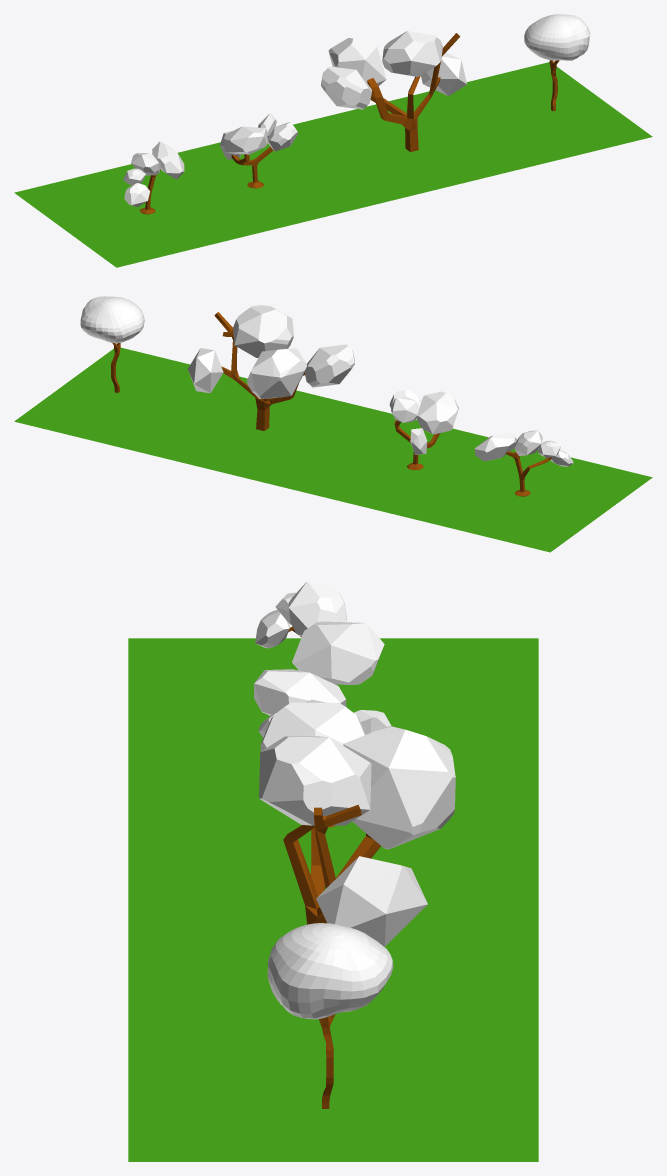
File: pohon low.glb
3 renders of one model, top to bottom at view 1: azimuth 30°, elevation 25°; view 2: azimuth 150°, elevation 25°; view 3: azimuth 270°, elevation 25°, orthographic. The views are drawn at different scales.
Visible parts, largest first — view 1: grass, Sphere, Icosphere.011, tree 3, Icosphere.013, Icosphere.009, Icosphere.015, tree 1.001, Icosphere.007, tree 1.008, tree 1, Icosphere.005 (+1 smaller); view 2: grass, Icosphere.011, Sphere, Icosphere.013, Icosphere.009, tree 1.001, tree 3, Icosphere.015, Icosphere.007, tree 1.006, Icosphere.005, tree 2 (+2 smaller); view 3: grass, Icosphere.013, Sphere, Icosphere.011, Icosphere.015, Icosphere.007, tree 3, Icosphere.009, tree 1.001, Icosphere.005, Icosphere.003.
Part boxes in pixels (<box>): grass: <box>14,62,652,267</box>; Sphere: <box>524,14,590,60</box>; Icosphere.011: <box>382,31,442,76</box>; tree 3: <box>367,33,460,151</box>; Icosphere.013: <box>328,38,386,86</box>; Icosphere.009: <box>321,66,371,109</box>; Icosphere.015: <box>421,52,467,95</box>; tree 1.001: <box>224,126,267,154</box>; Icosphere.007: <box>152,141,184,179</box>; tree 1.008: <box>267,122,297,151</box>; tree 1: <box>231,146,273,188</box>; Icosphere.005: <box>131,153,161,175</box>; grass: <box>14,347,652,552</box>; Icosphere.011: <box>233,305,293,357</box>; Sphere: <box>80,296,144,343</box>; Icosphere.013: <box>247,348,306,398</box>; Icosphere.009: <box>304,344,354,387</box>; tree 1.001: <box>416,391,458,434</box>; tree 3: <box>214,312,304,430</box>; Icosphere.015: <box>187,348,223,393</box>; Icosphere.007: <box>474,432,517,461</box>; tree 1.006: <box>391,397,418,422</box>; Icosphere.005: <box>514,430,542,455</box>; tree 2: <box>506,451,551,496</box>; grass: <box>128,638,538,1161</box>; Icosphere.013: <box>343,726,455,849</box>; Sphere: <box>267,923,393,1019</box>; Icosphere.011: <box>259,736,371,825</box>; Icosphere.015: <box>316,856,427,946</box>; Icosphere.007: <box>292,621,384,684</box>; tree 3: <box>283,804,380,924</box>; Icosphere.009: <box>260,702,365,751</box>; tree 1.001: <box>254,669,346,715</box>; Icosphere.005: <box>288,581,346,636</box>; Icosphere.003: <box>255,609,290,648</box>.
Size of the model in its own units: 84.42 by 17.68 by 27.97.
